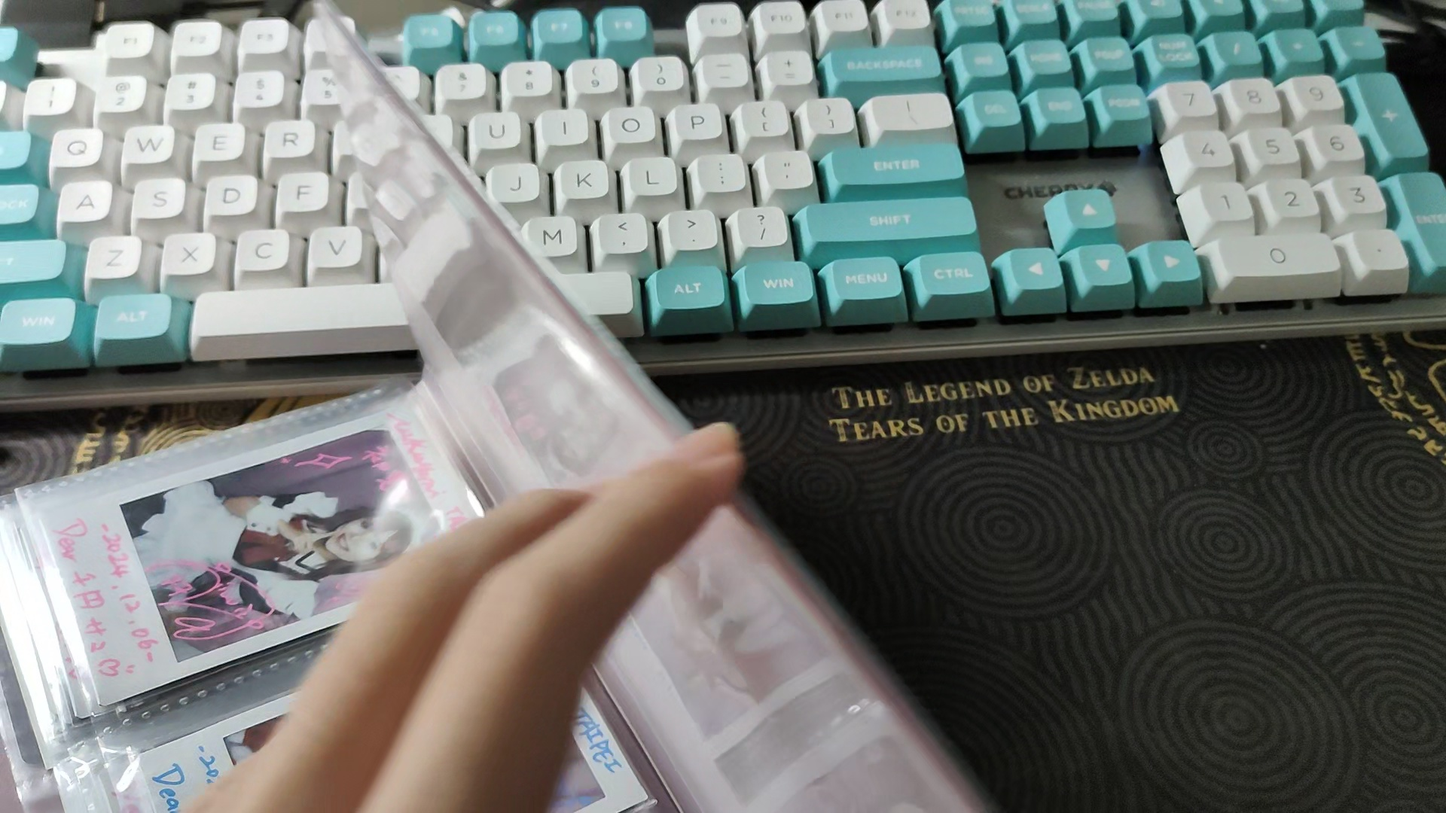Photo_book: (0, 0, 996, 813)
